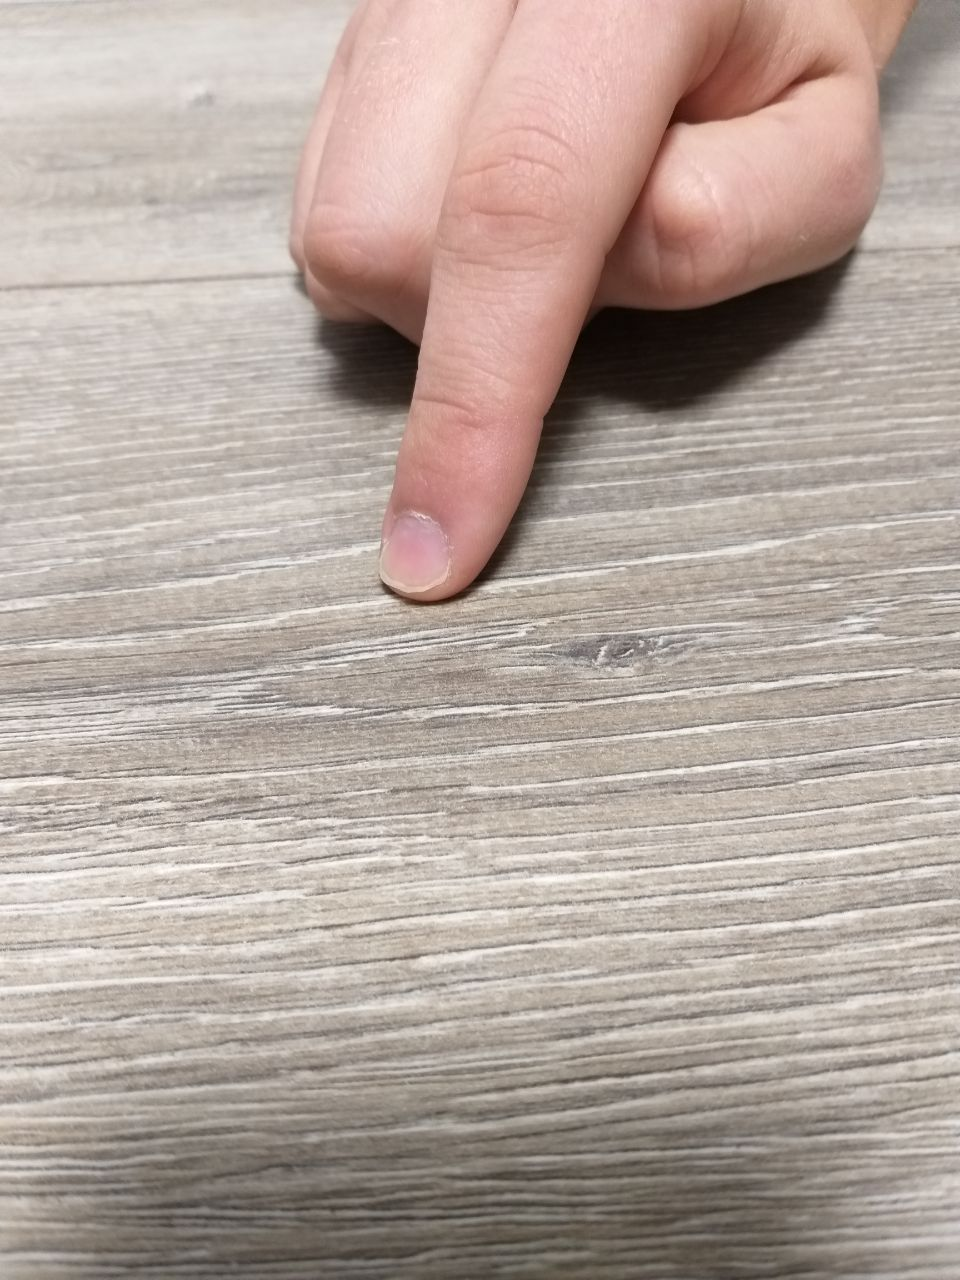finger: (387, 461, 479, 600)
